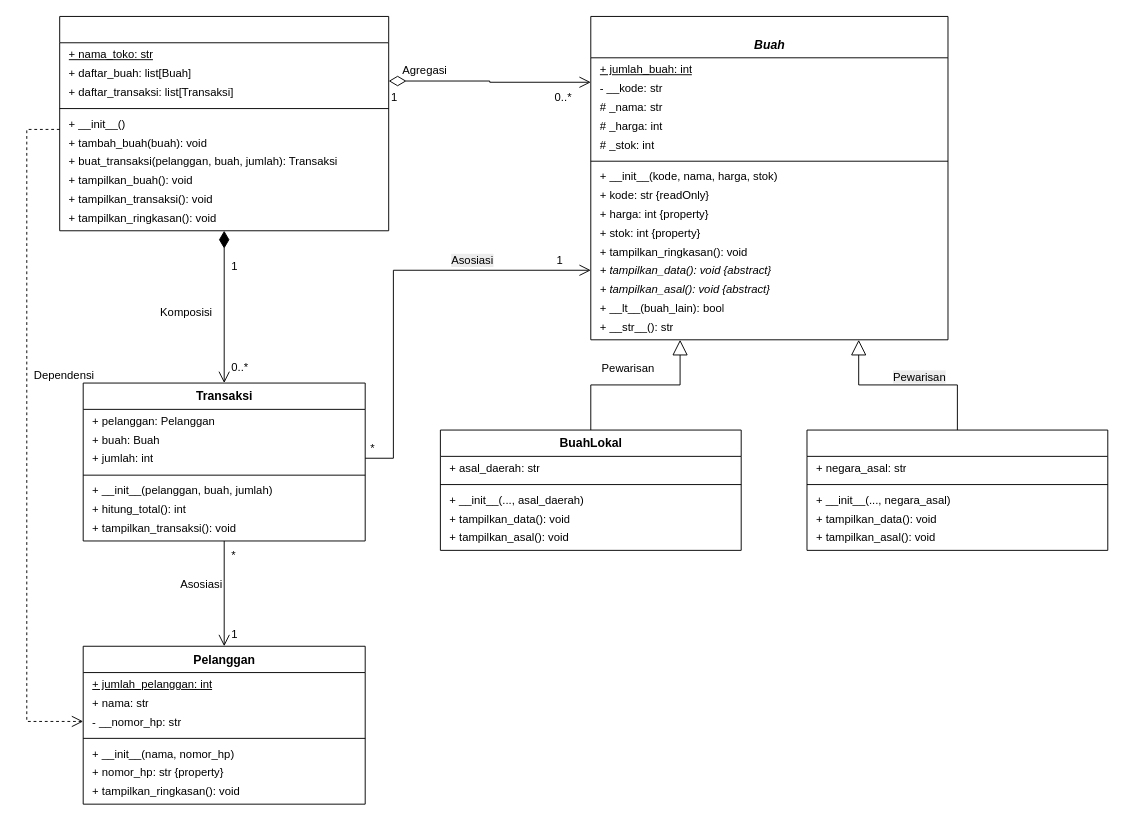
Some shapes in this 1124 by 821 pixel diagram are drawn without their labels. The box of each missing label's shape, as (x1, y1, x2, y2) in pixels:
BuahImpor: (806, 429, 1108, 550)
TokoBuah: (59, 16, 389, 231)
